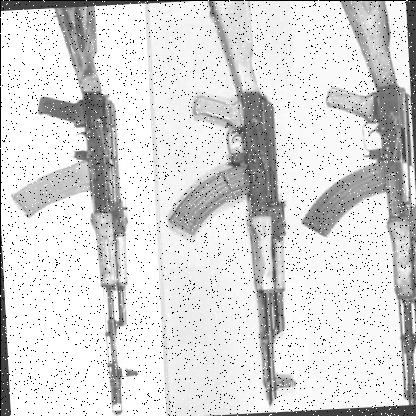rifle: (0, 4, 152, 416), (151, 0, 296, 412), (283, 0, 416, 407)
